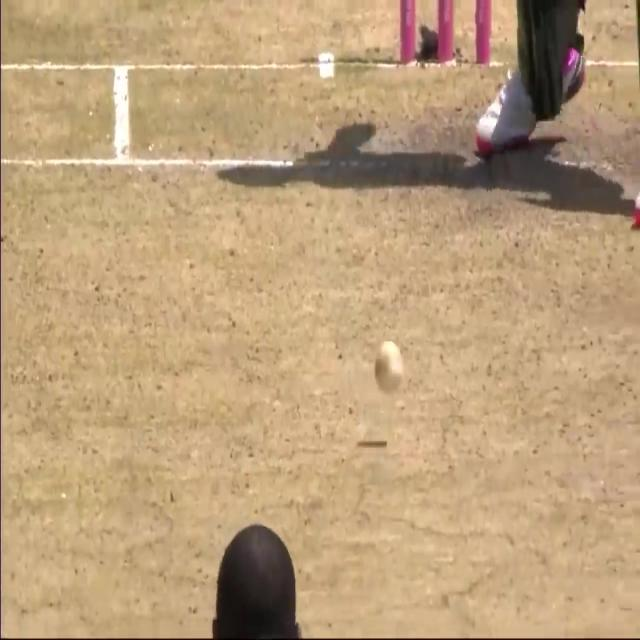Batsman: (368, 322, 408, 402)
